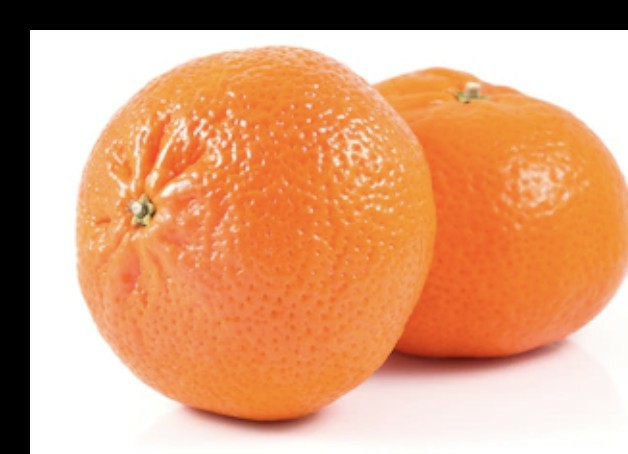fresh_orange: (82, 52, 430, 418), (373, 70, 628, 363)
